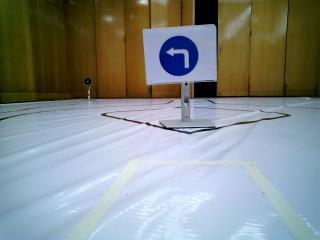left: (147, 30, 216, 82)
